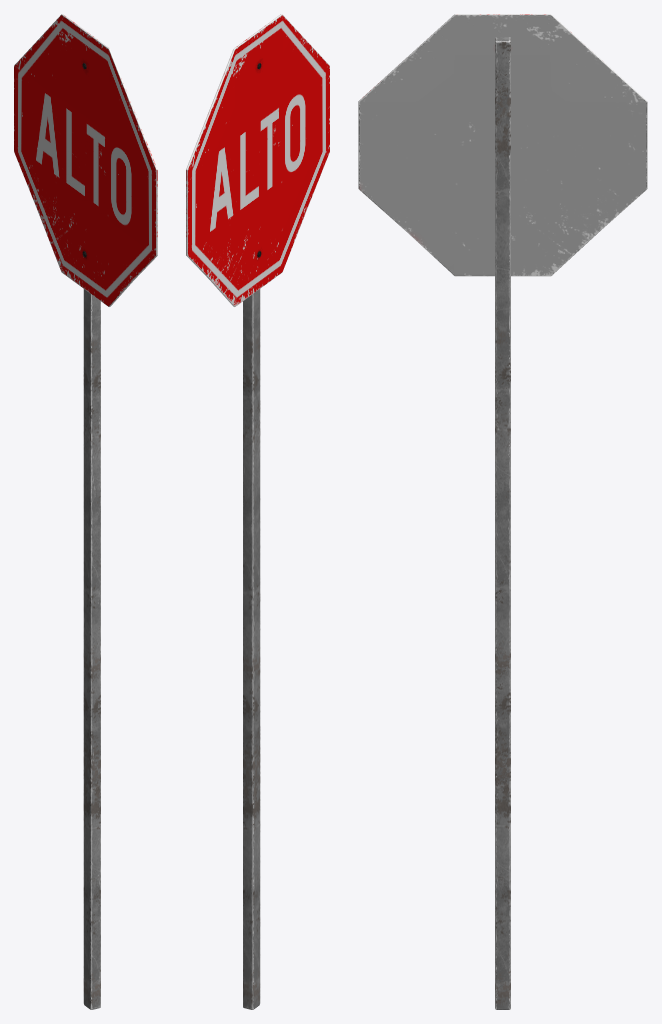
The model's file is senal_alto.glb.
The picture shows the model from 3 angles, left to right: view 1: azimuth 30°, elevation 25°; view 2: azimuth 150°, elevation 25°; view 3: azimuth 270°, elevation 25°; orthographic projection.
Visible parts, largest first — view 1: polySurface2, polySurface4; view 2: polySurface2, polySurface4; view 3: polySurface2, polySurface4.
Boxes of the visible parts, left/top/right/bottom form: polySurface2: left=14, top=14, right=157, bottom=306; polySurface4: left=83, top=289, right=100, bottom=1009; polySurface2: left=186, top=14, right=329, bottom=306; polySurface4: left=243, top=289, right=260, bottom=1009; polySurface2: left=358, top=14, right=647, bottom=276; polySurface4: left=495, top=37, right=510, bottom=1009.
Bounding box in the file's own units: 0.0411 × 2.75 × 0.7267.
3 materials, 3 textured.
